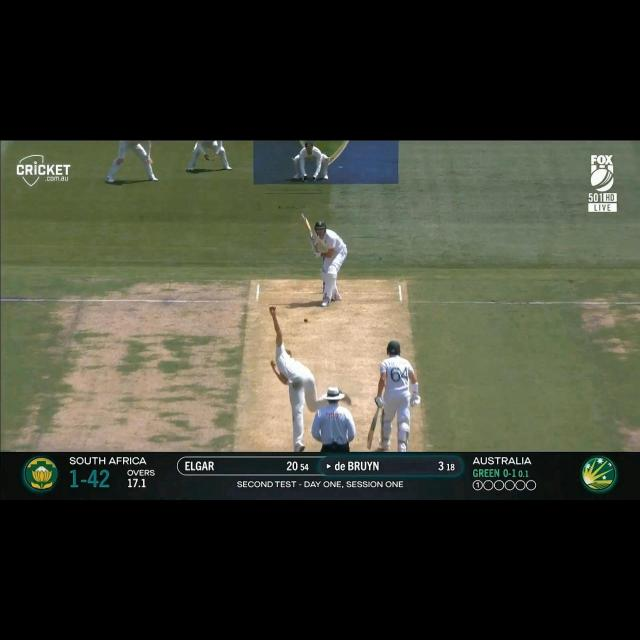bat: (365, 415, 378, 449), (300, 214, 314, 238)
toe: (300, 213, 307, 222), (366, 441, 372, 450)
